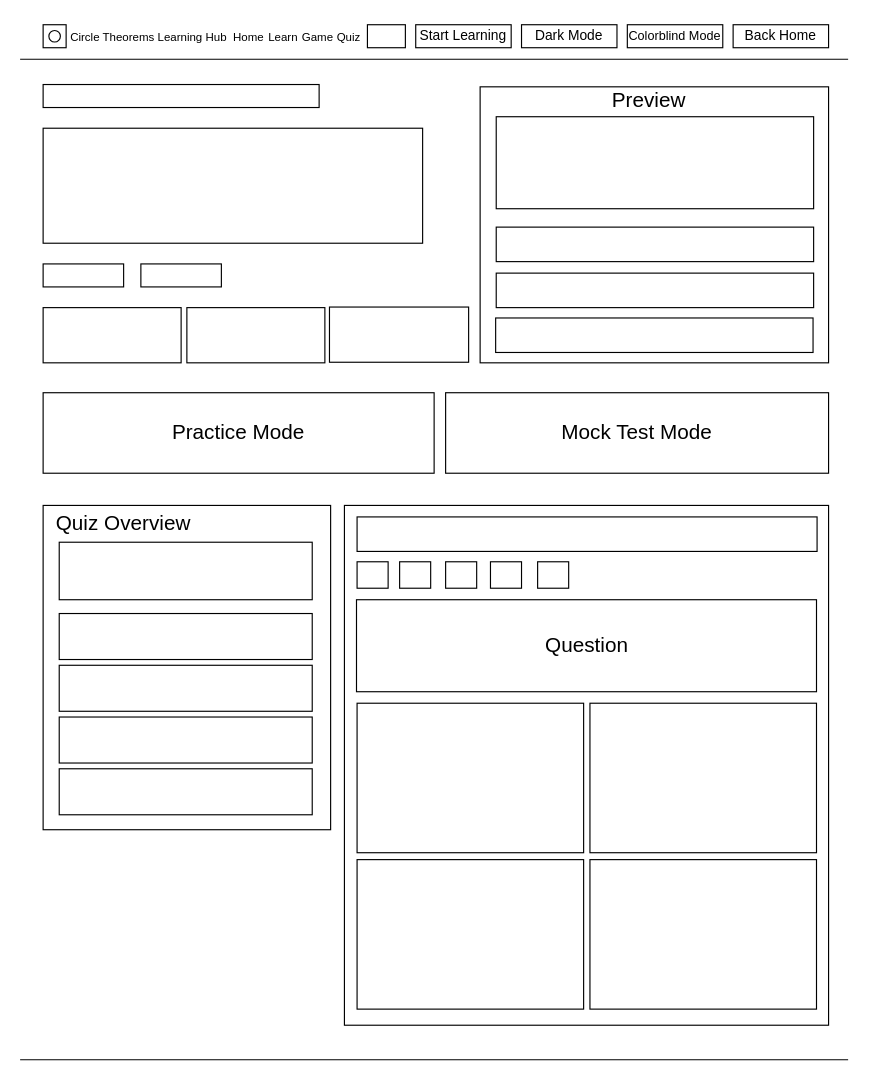
Some shapes in this 869 by 1081 pixel diagram are drawn without their labels. Here are the shapes that lost their labels. From the top down, the centre of each, then its label:
At (385,36): "中文".
At (180,95): "GCSE-friendy · Image Quiz · Instant Feedback".
At (232,185): "TiTle".
At (586,533): "Quiz Progress".
